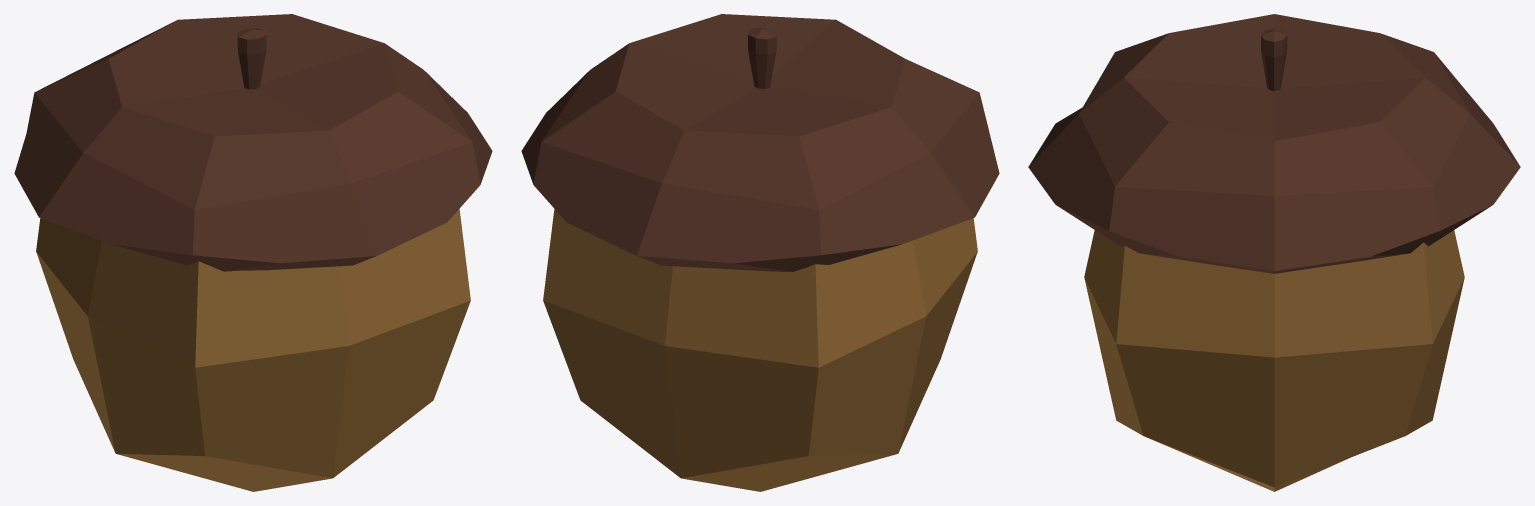
The model's file is Acorn_Onai.glb.
The picture shows the model from 3 angles, left to right: view 1: azimuth 30°, elevation 25°; view 2: azimuth 150°, elevation 25°; view 3: azimuth 270°, elevation 25°; orthographic projection.
Parts seen in each view (by area): view 1: Cube.001, Cube; view 2: Cube.001, Cube; view 3: Cube.001, Cube.
Boxes of the visible parts, box(x1,y1,x2,y2) form: Cube.001: box(14, 14, 492, 271); Cube: box(36, 209, 470, 491); Cube.001: box(521, 14, 999, 271); Cube: box(543, 209, 977, 491); Cube.001: box(1028, 14, 1520, 273); Cube: box(1084, 230, 1464, 491).
Bounding box in the file's own units: 3.11 × 3.21 × 3.11.
Materials: 2 (2 with a texture image).
